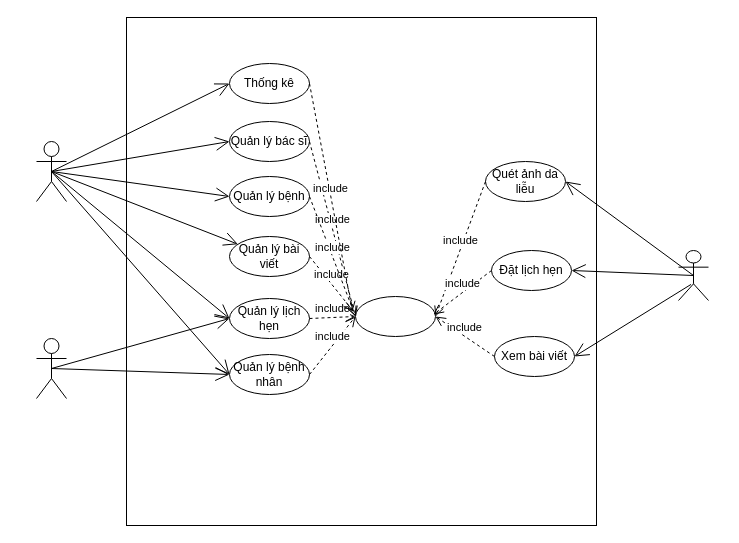
The diagram is 739 pixels wide and 543 high, and some of its shapes have lost their labels. Here are the shapes that lost their labels. From the top down, the centre of each, then its label:
At (51,171): "Quản trị viên".
At (693,275): "Bệnh nhân".
At (395,316): "Đăng nhập".
At (51,368): "Bác sĩ".
